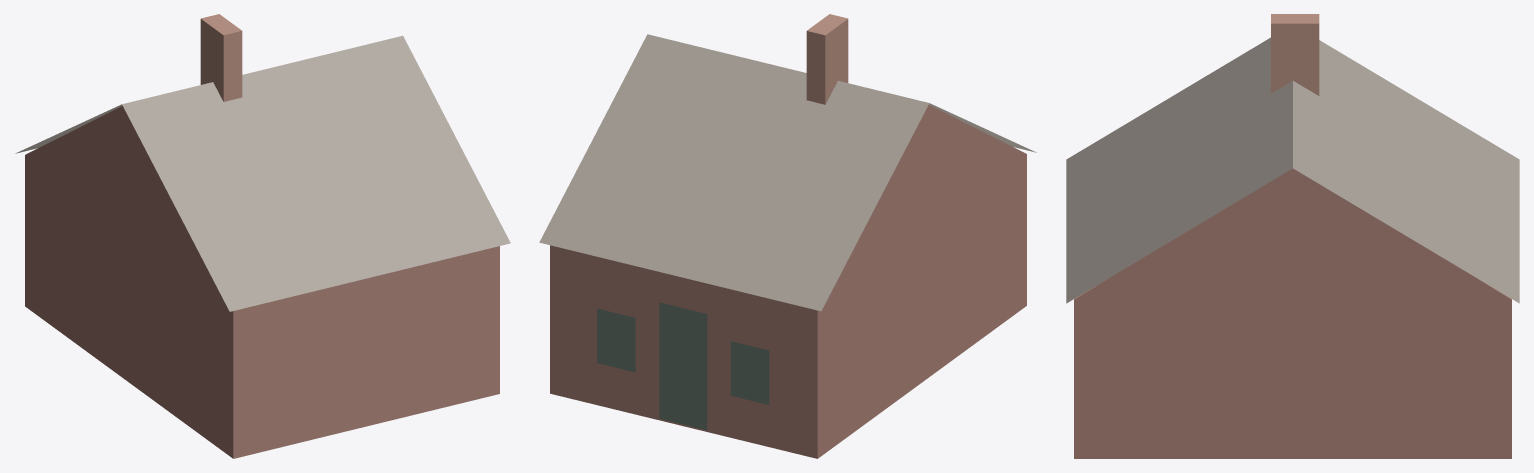
File: recon_1835_south_d3_027__recommended_1835.glb
3 views of the same model, side by side, from view 1: azimuth 30°, elevation 25°; view 2: azimuth 150°, elevation 25°; view 3: azimuth 270°, elevation 25° (orthographic). The views are drawn at different scales.
Parts seen in each view (by area): view 1: recon_1835_south_d3_027__recommended_1835; view 2: recon_1835_south_d3_027__recommended_1835; view 3: recon_1835_south_d3_027__recommended_1835.
Boxes of the visible parts, bbox=[...] form: recon_1835_south_d3_027__recommended_1835: bbox=[15, 14, 510, 458]; recon_1835_south_d3_027__recommended_1835: bbox=[539, 14, 1036, 458]; recon_1835_south_d3_027__recommended_1835: bbox=[1066, 14, 1519, 458].
Size of the model in its own units: 5.4 by 6.14 by 7.18.
